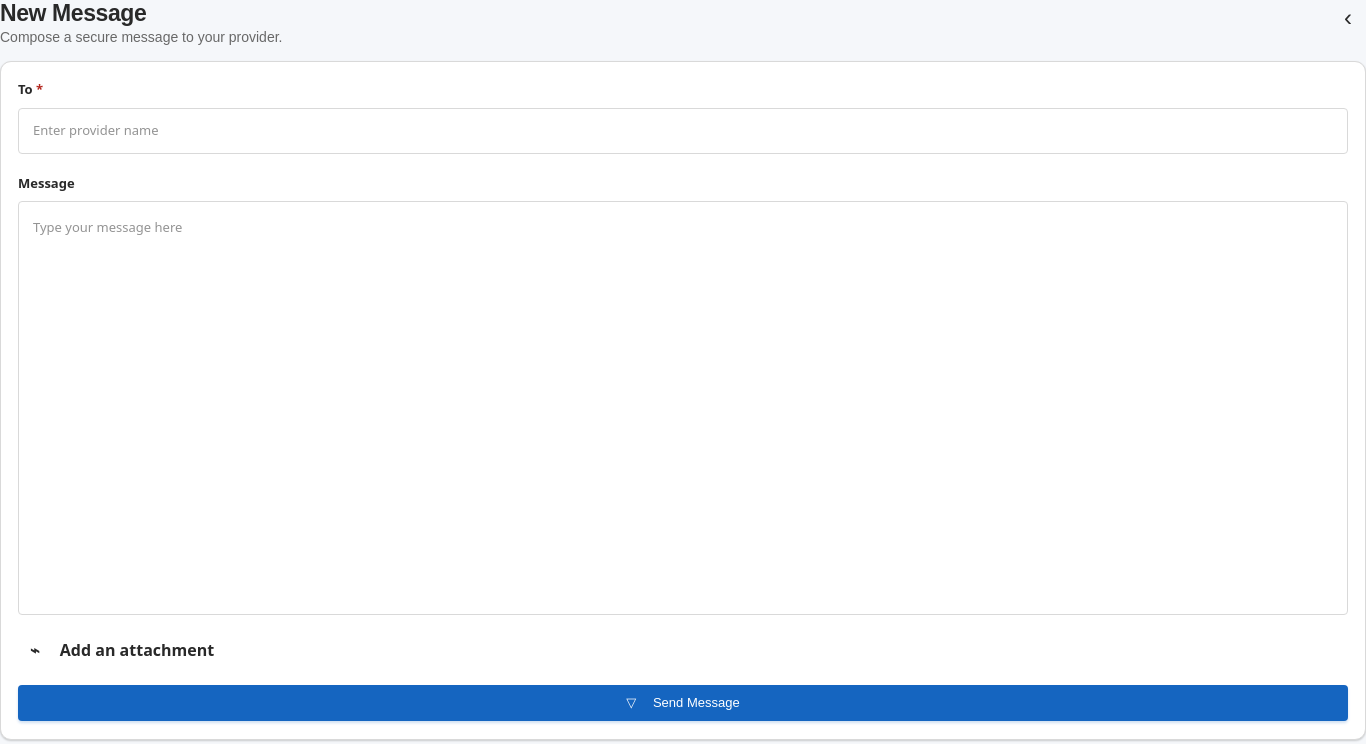
CareConnect New Message › successfully sends a valid secure message
In the field with placeholder "Enter provider name": (683,130) [18,108,1348,154], type "Dr. Smith"
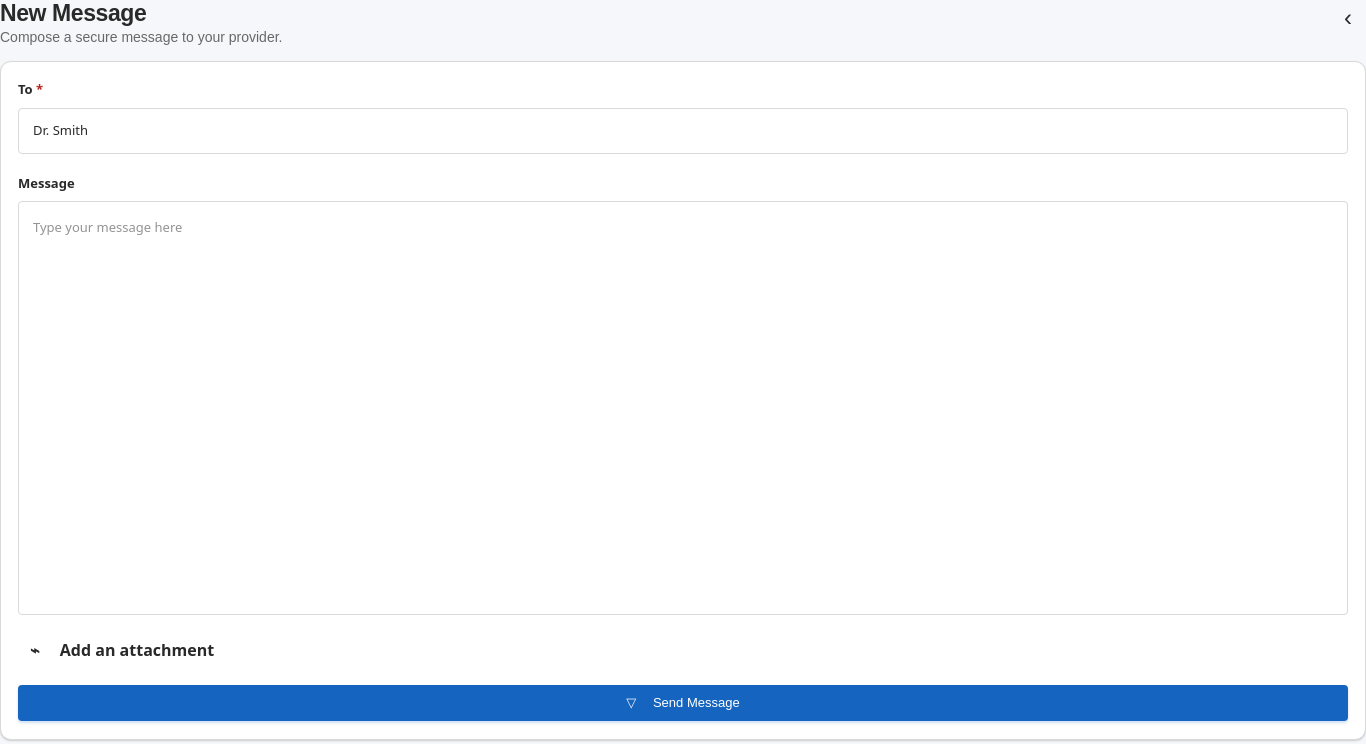
In the text box with placeholder "Type your message here": (683,408) [18,201,1348,615], type "I would like to discuss my recent test results."
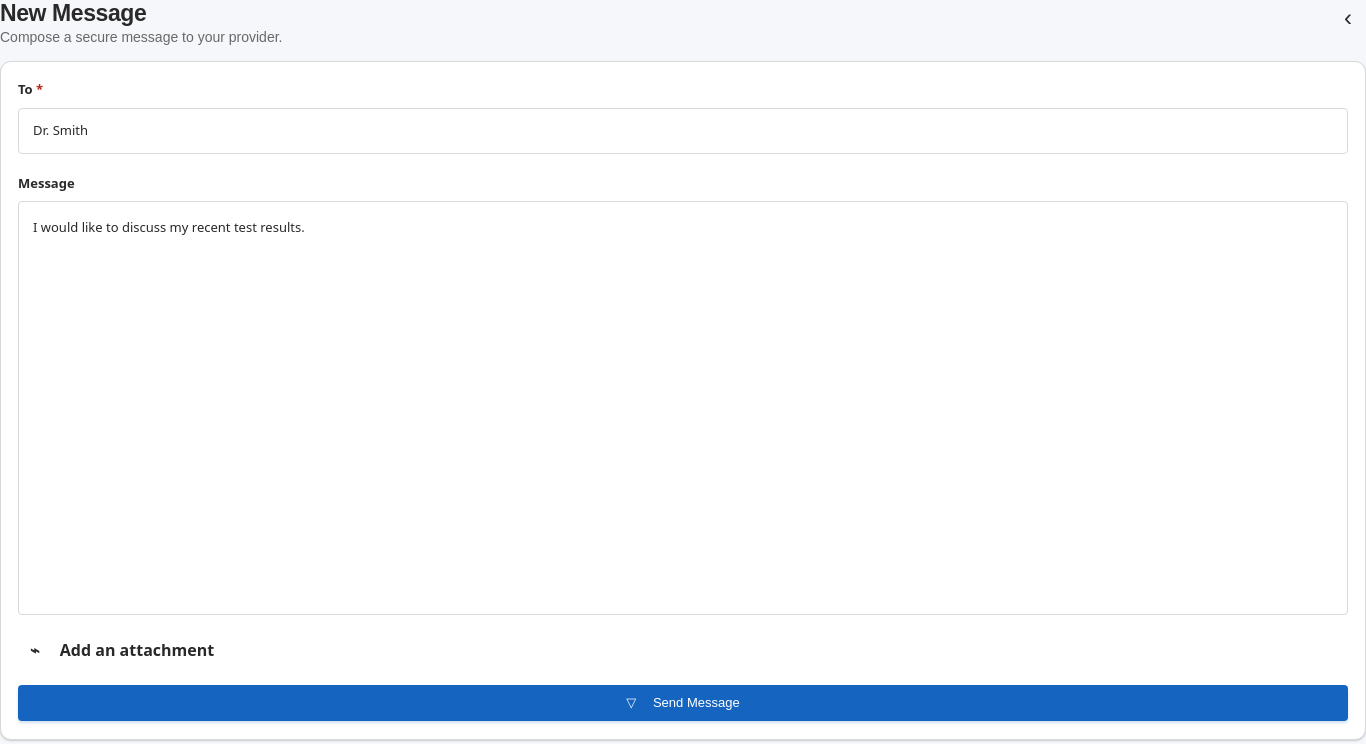
Click the button "▽ Send Message": (683,703) [18,685,1348,721]
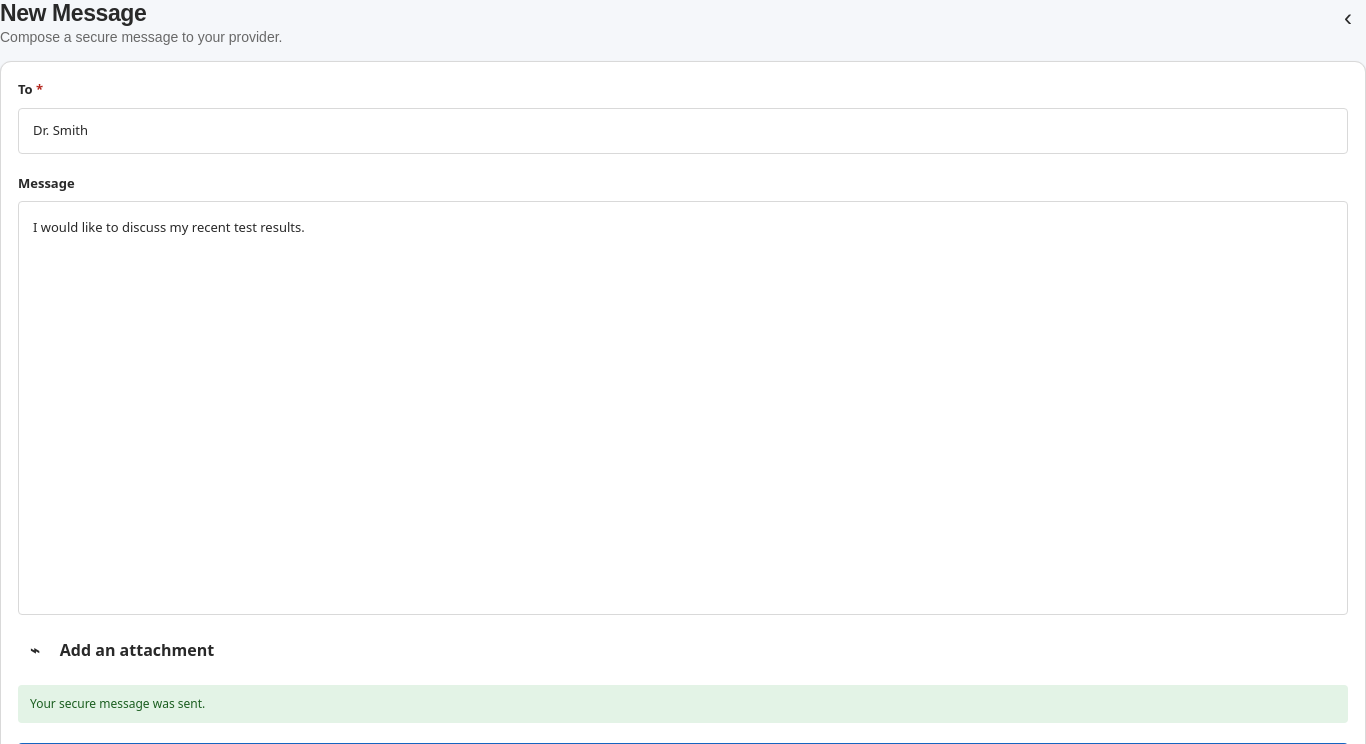
Expected: the text "Your secure message was sent." is shown, [18,685,1348,723]
